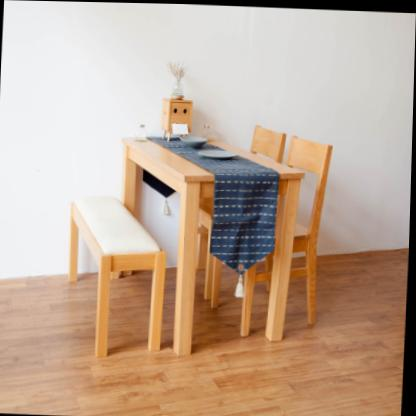Dining Table: (60, 115, 341, 361)
Wooden floor: (249, 246, 410, 416), (0, 273, 98, 416)
